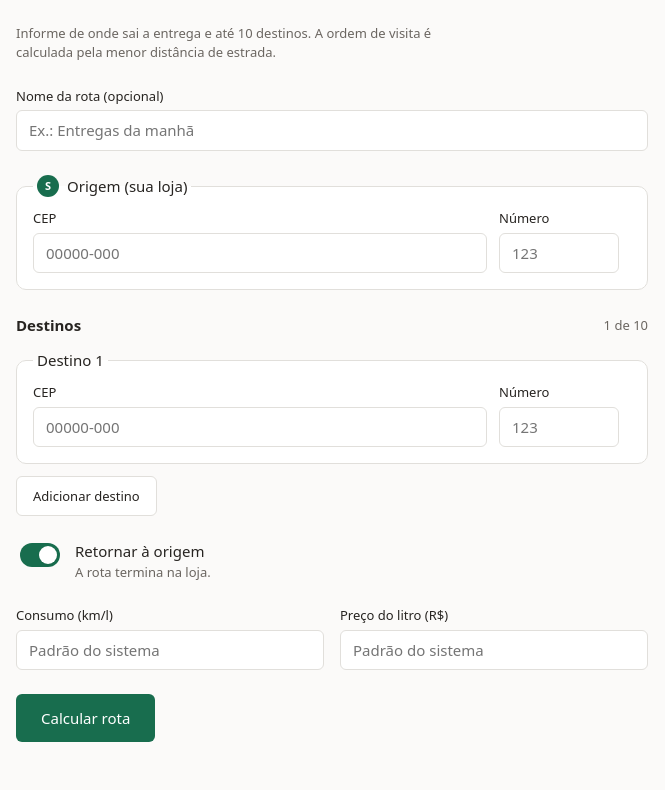
PlanPage › valida campos antes de enviar
(page scrolled)
What coordinates should you click on to do the following:
click the button "Calcular rota"
I would click on:
 (86, 718)
Its box is [16,694,155,742].
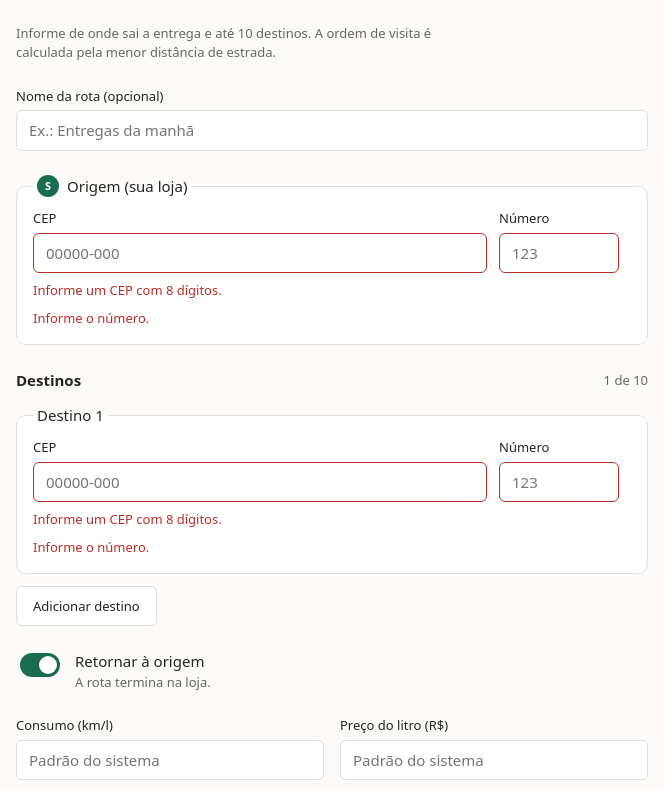
Now the text "Informe um CEP com 8 dígitos." is shown 2 times, box [33,281,222,299]; [33,510,222,528]
